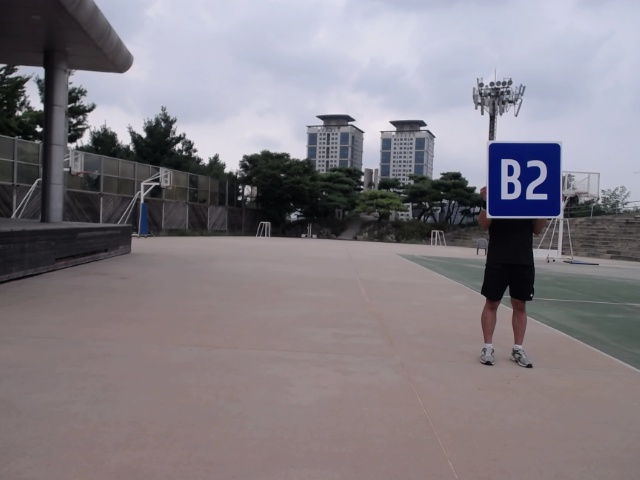delivery_b2: (486, 140, 563, 221)
